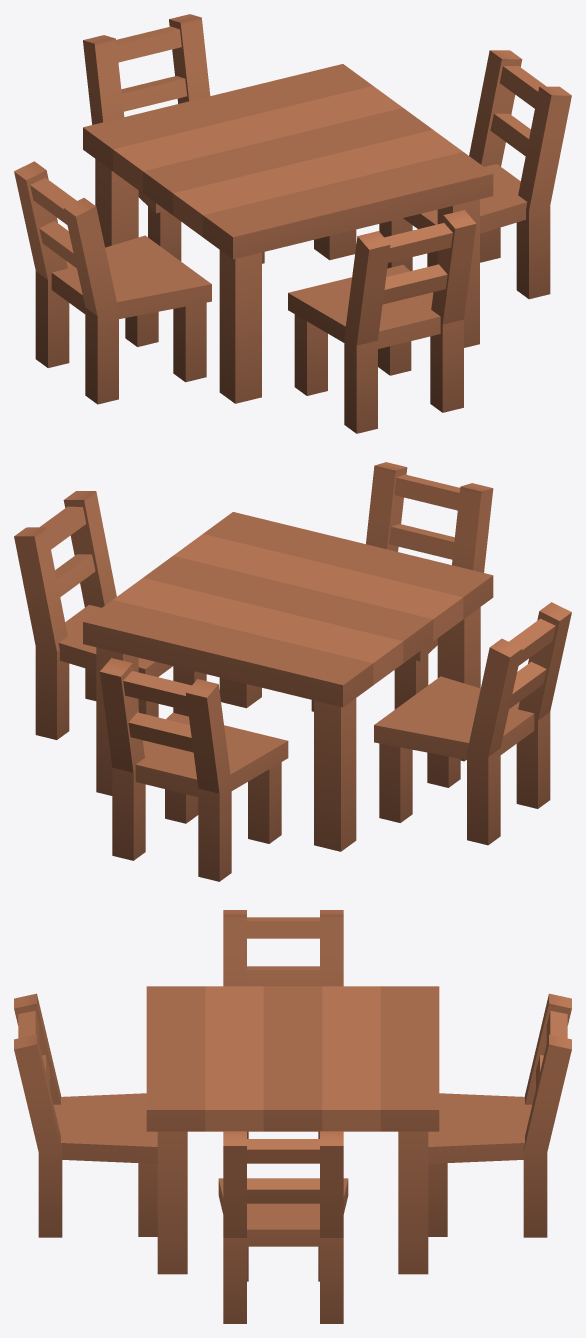
File: table 2.fbx
3 views of the same model, one above another, from view 1: azimuth 30°, elevation 25°; view 2: azimuth 150°, elevation 25°; view 3: azimuth 270°, elevation 25° (orthographic). The views are drawn at different scales.
Visible parts, largest first — view 1: table_2; view 2: table_2; view 3: table_2.
Part boxes in pixels (box(x1,y1,x2,y2)): table_2: box(14, 14, 571, 433); table_2: box(14, 462, 571, 881); table_2: box(14, 910, 571, 1323).
Bounding box in the file's own units: 238 × 91 × 238.
Materials: 1 (1 with a texture image).
